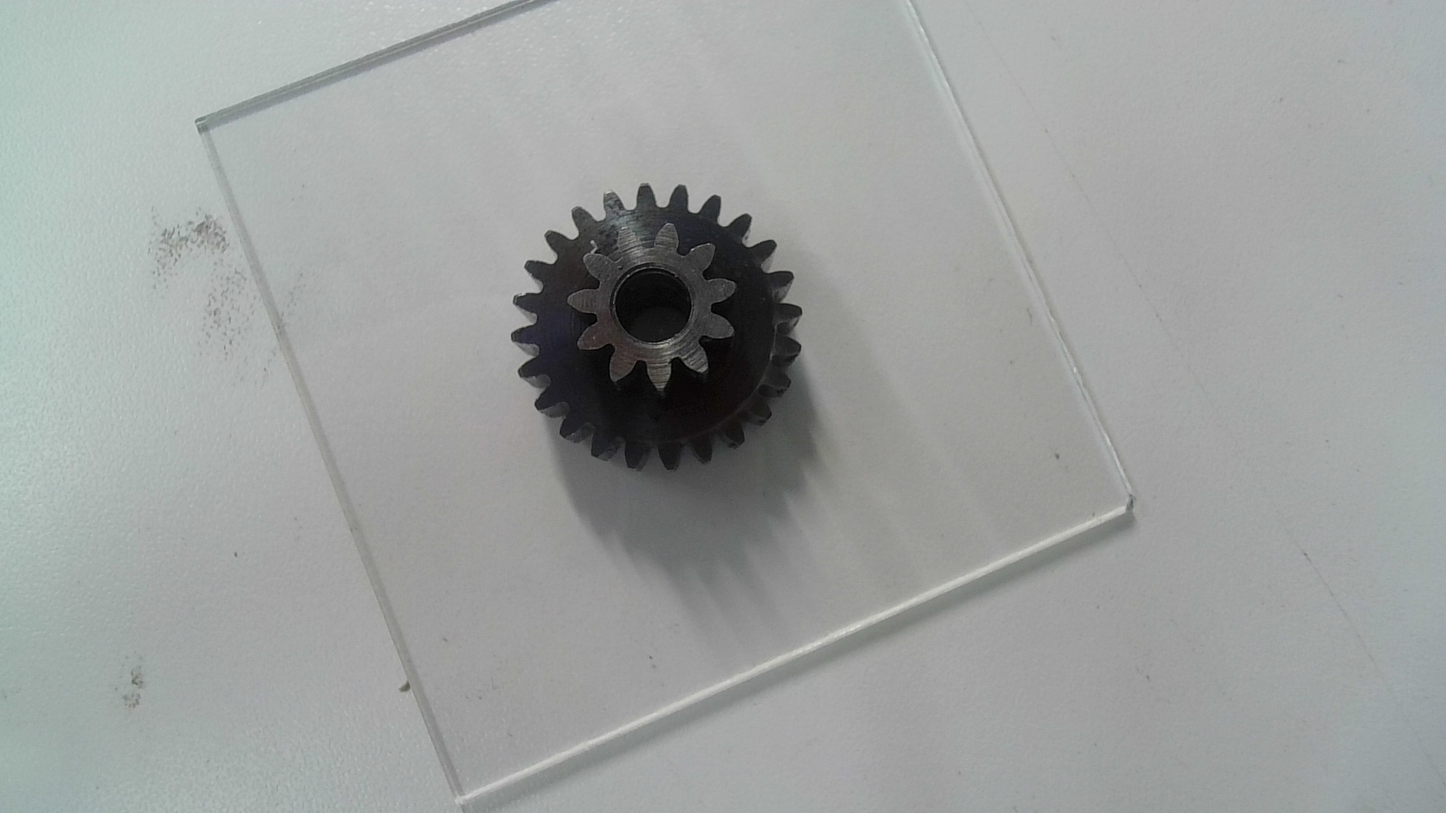gear: (515, 172, 809, 482)
